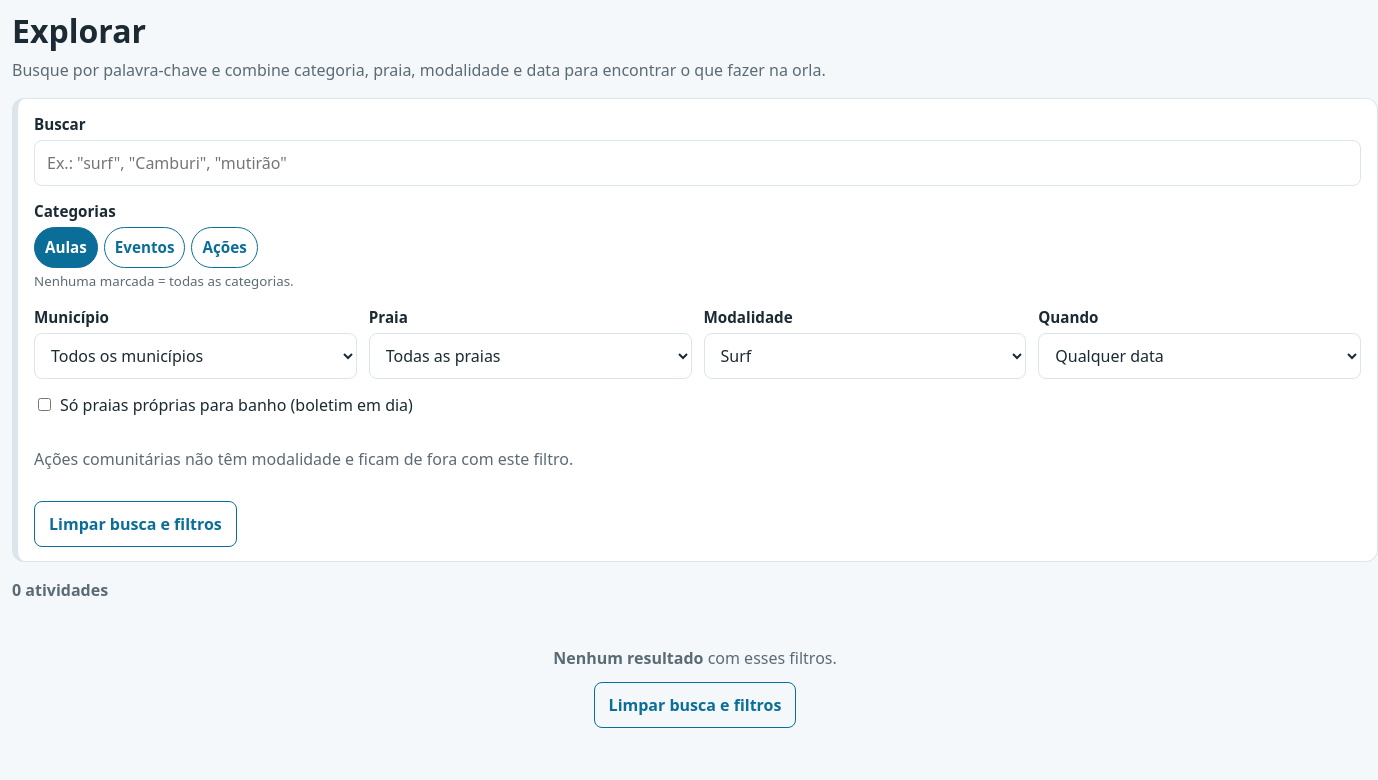
ExplorarPage › sem resultados, oferece limpar os filtros
Expected: the text "Nenhum resultado" is shown, [553,647,704,669]
Click the button "Limpar busca e filtros" below "Município". click: (135, 524)
box: [34,501,237,547]
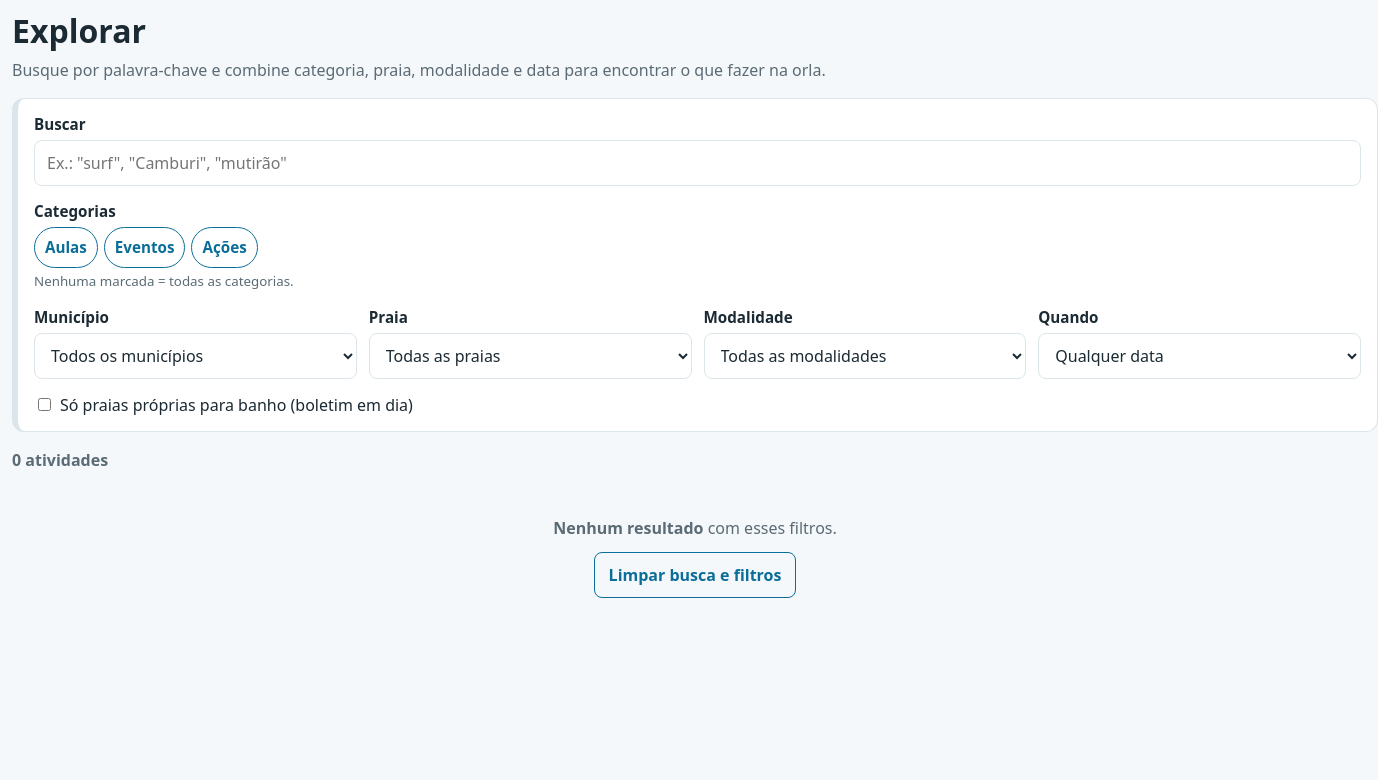
Expected: the checkbox labelled "Aulas" is not checked, [34,227,98,268]
